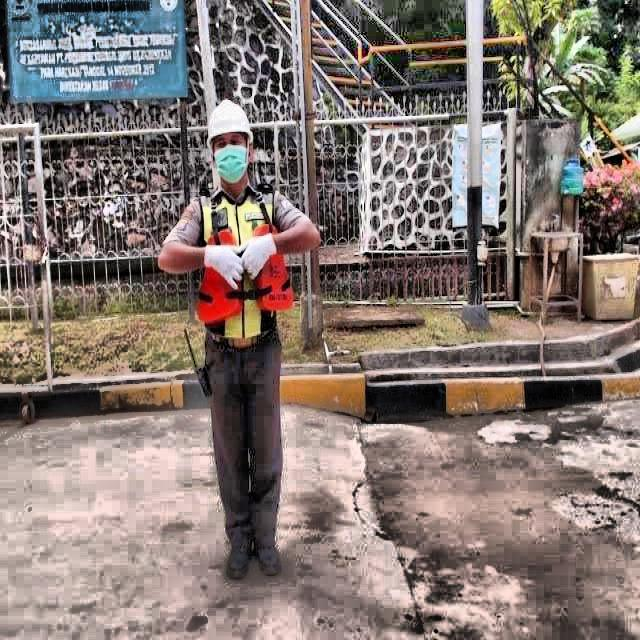safety_jacket: (200, 187, 295, 346)
